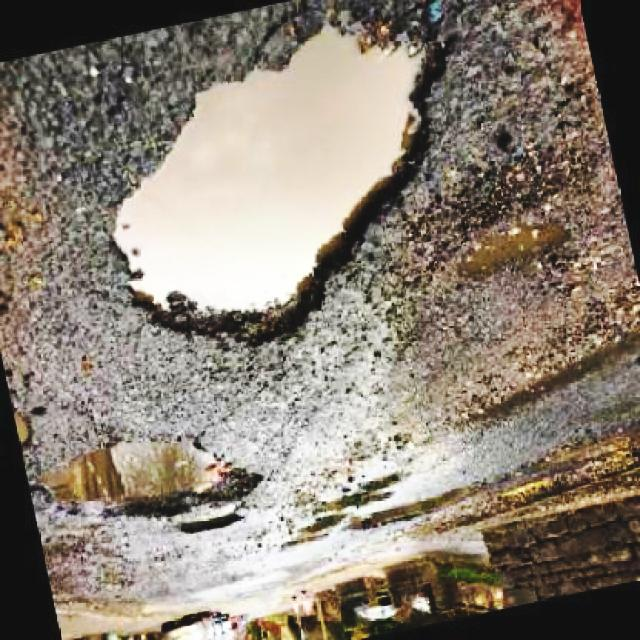pothole: (108, 11, 455, 344), (457, 291, 640, 431), (34, 426, 268, 534), (276, 464, 412, 550), (452, 206, 580, 286)
